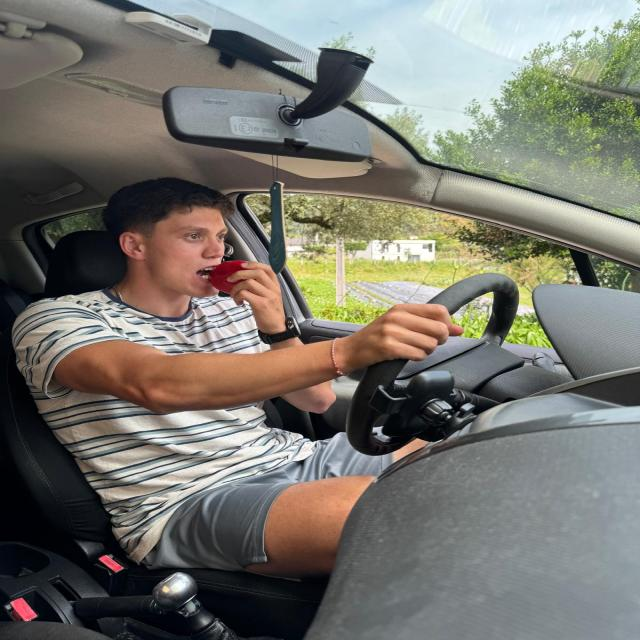Eating: (210, 240, 277, 318)
